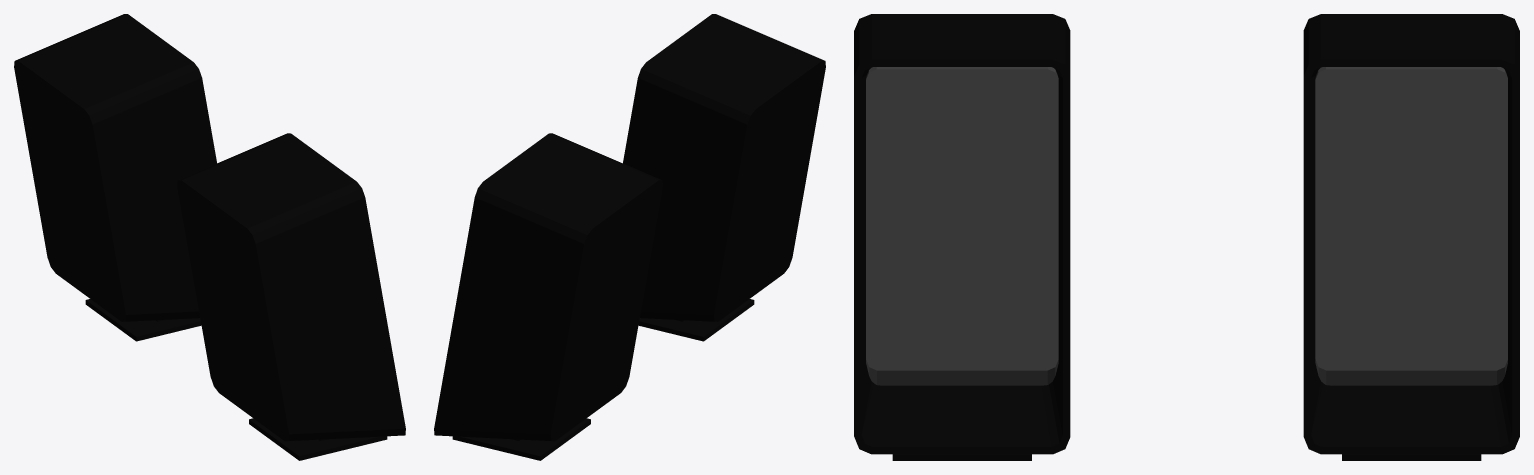
The model's file is 1341 Wall_Desk Speakers.gltf.
The picture shows the model from 3 angles, left to right: view 1: azimuth 30°, elevation 25°; view 2: azimuth 150°, elevation 25°; view 3: azimuth 270°, elevation 25°; orthographic projection. The views are drawn at different scales.
Visible parts, largest first — view 1: node-0; view 2: node-0; view 3: node-0.
Boxes of the visible parts, x1,y1,x2,y2 form: node-0: (14,14,405,460); node-0: (434,14,825,460); node-0: (854,14,1519,460).
Bounding box in the file's own units: 22.46 × 37.96 × 60.98.
Materials: 1 (1 with a texture image).
